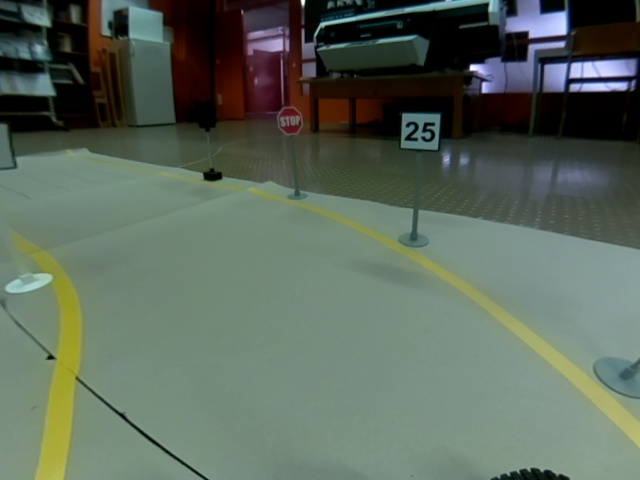speed25: (399, 112, 441, 151)
stop: (276, 106, 303, 136)
trafficLightOff: (196, 100, 217, 128)
